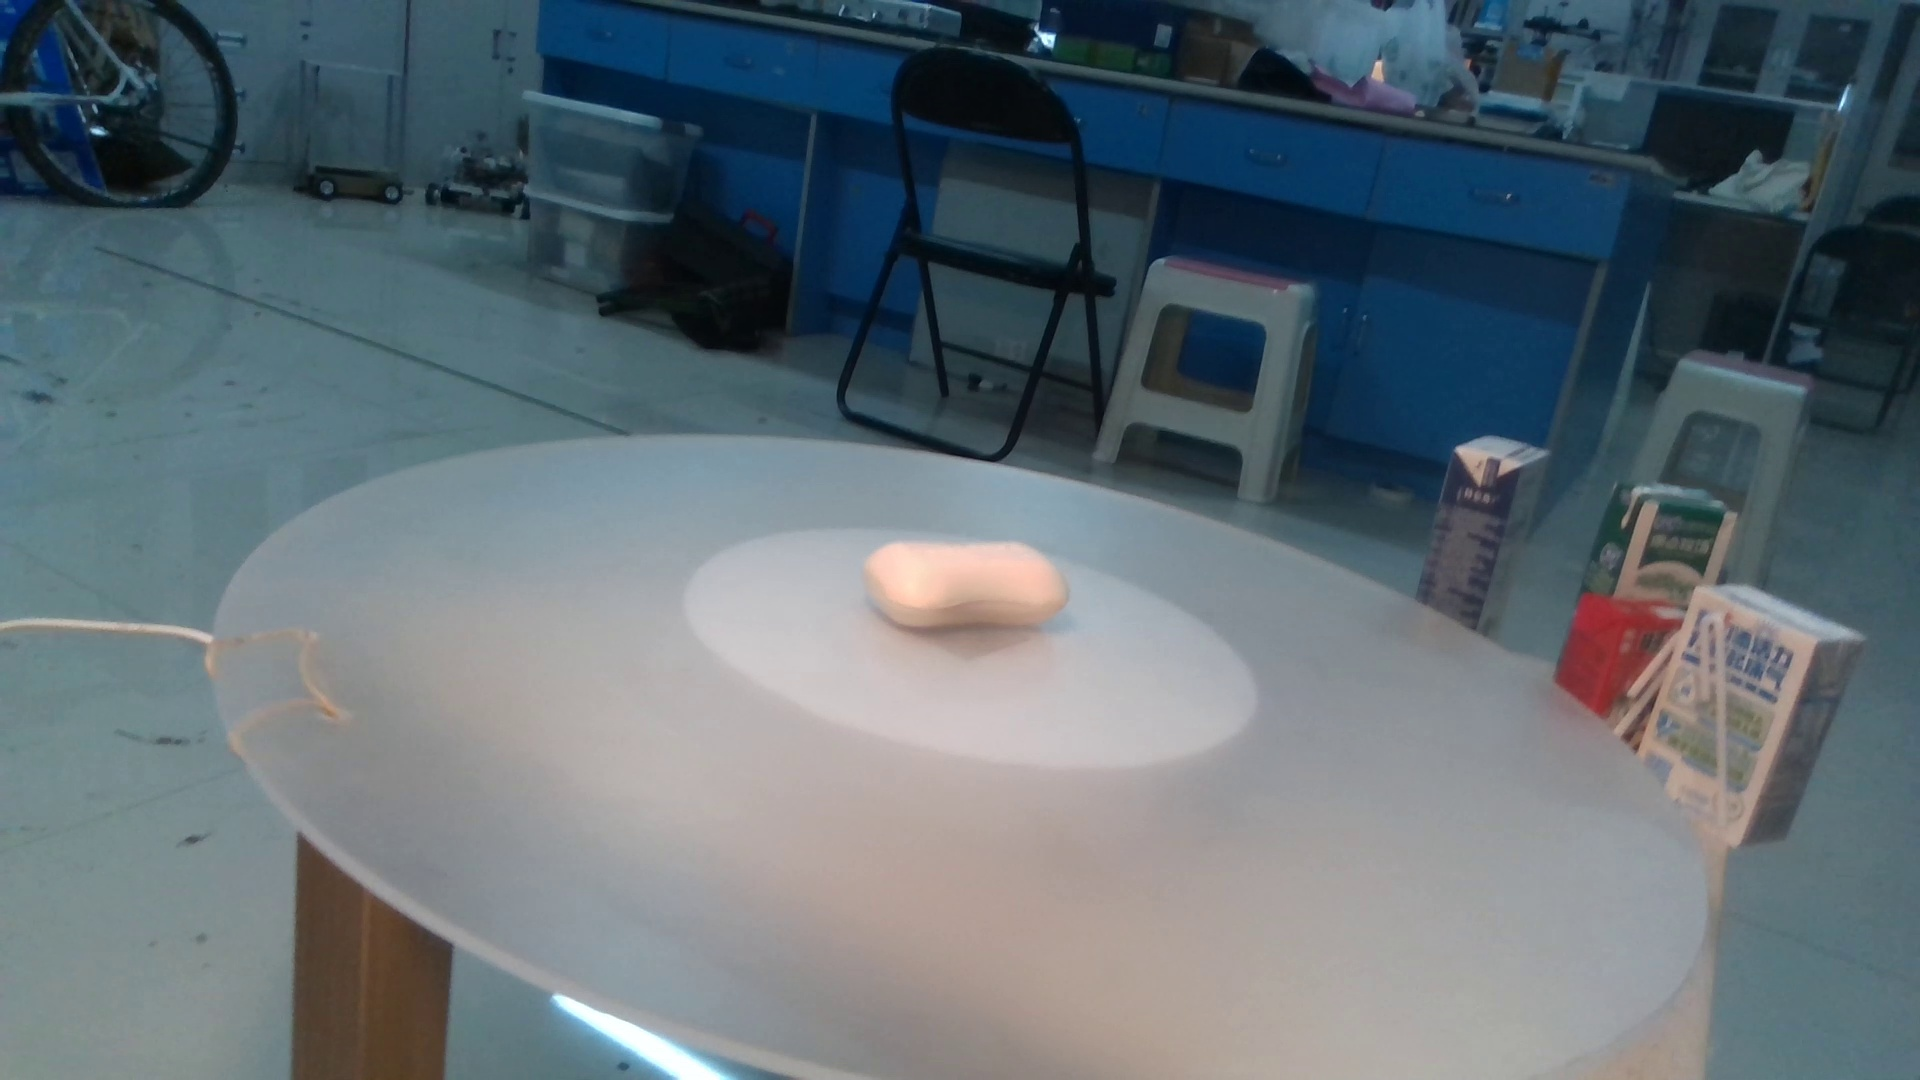CA003_1: (833, 513, 1110, 662)
